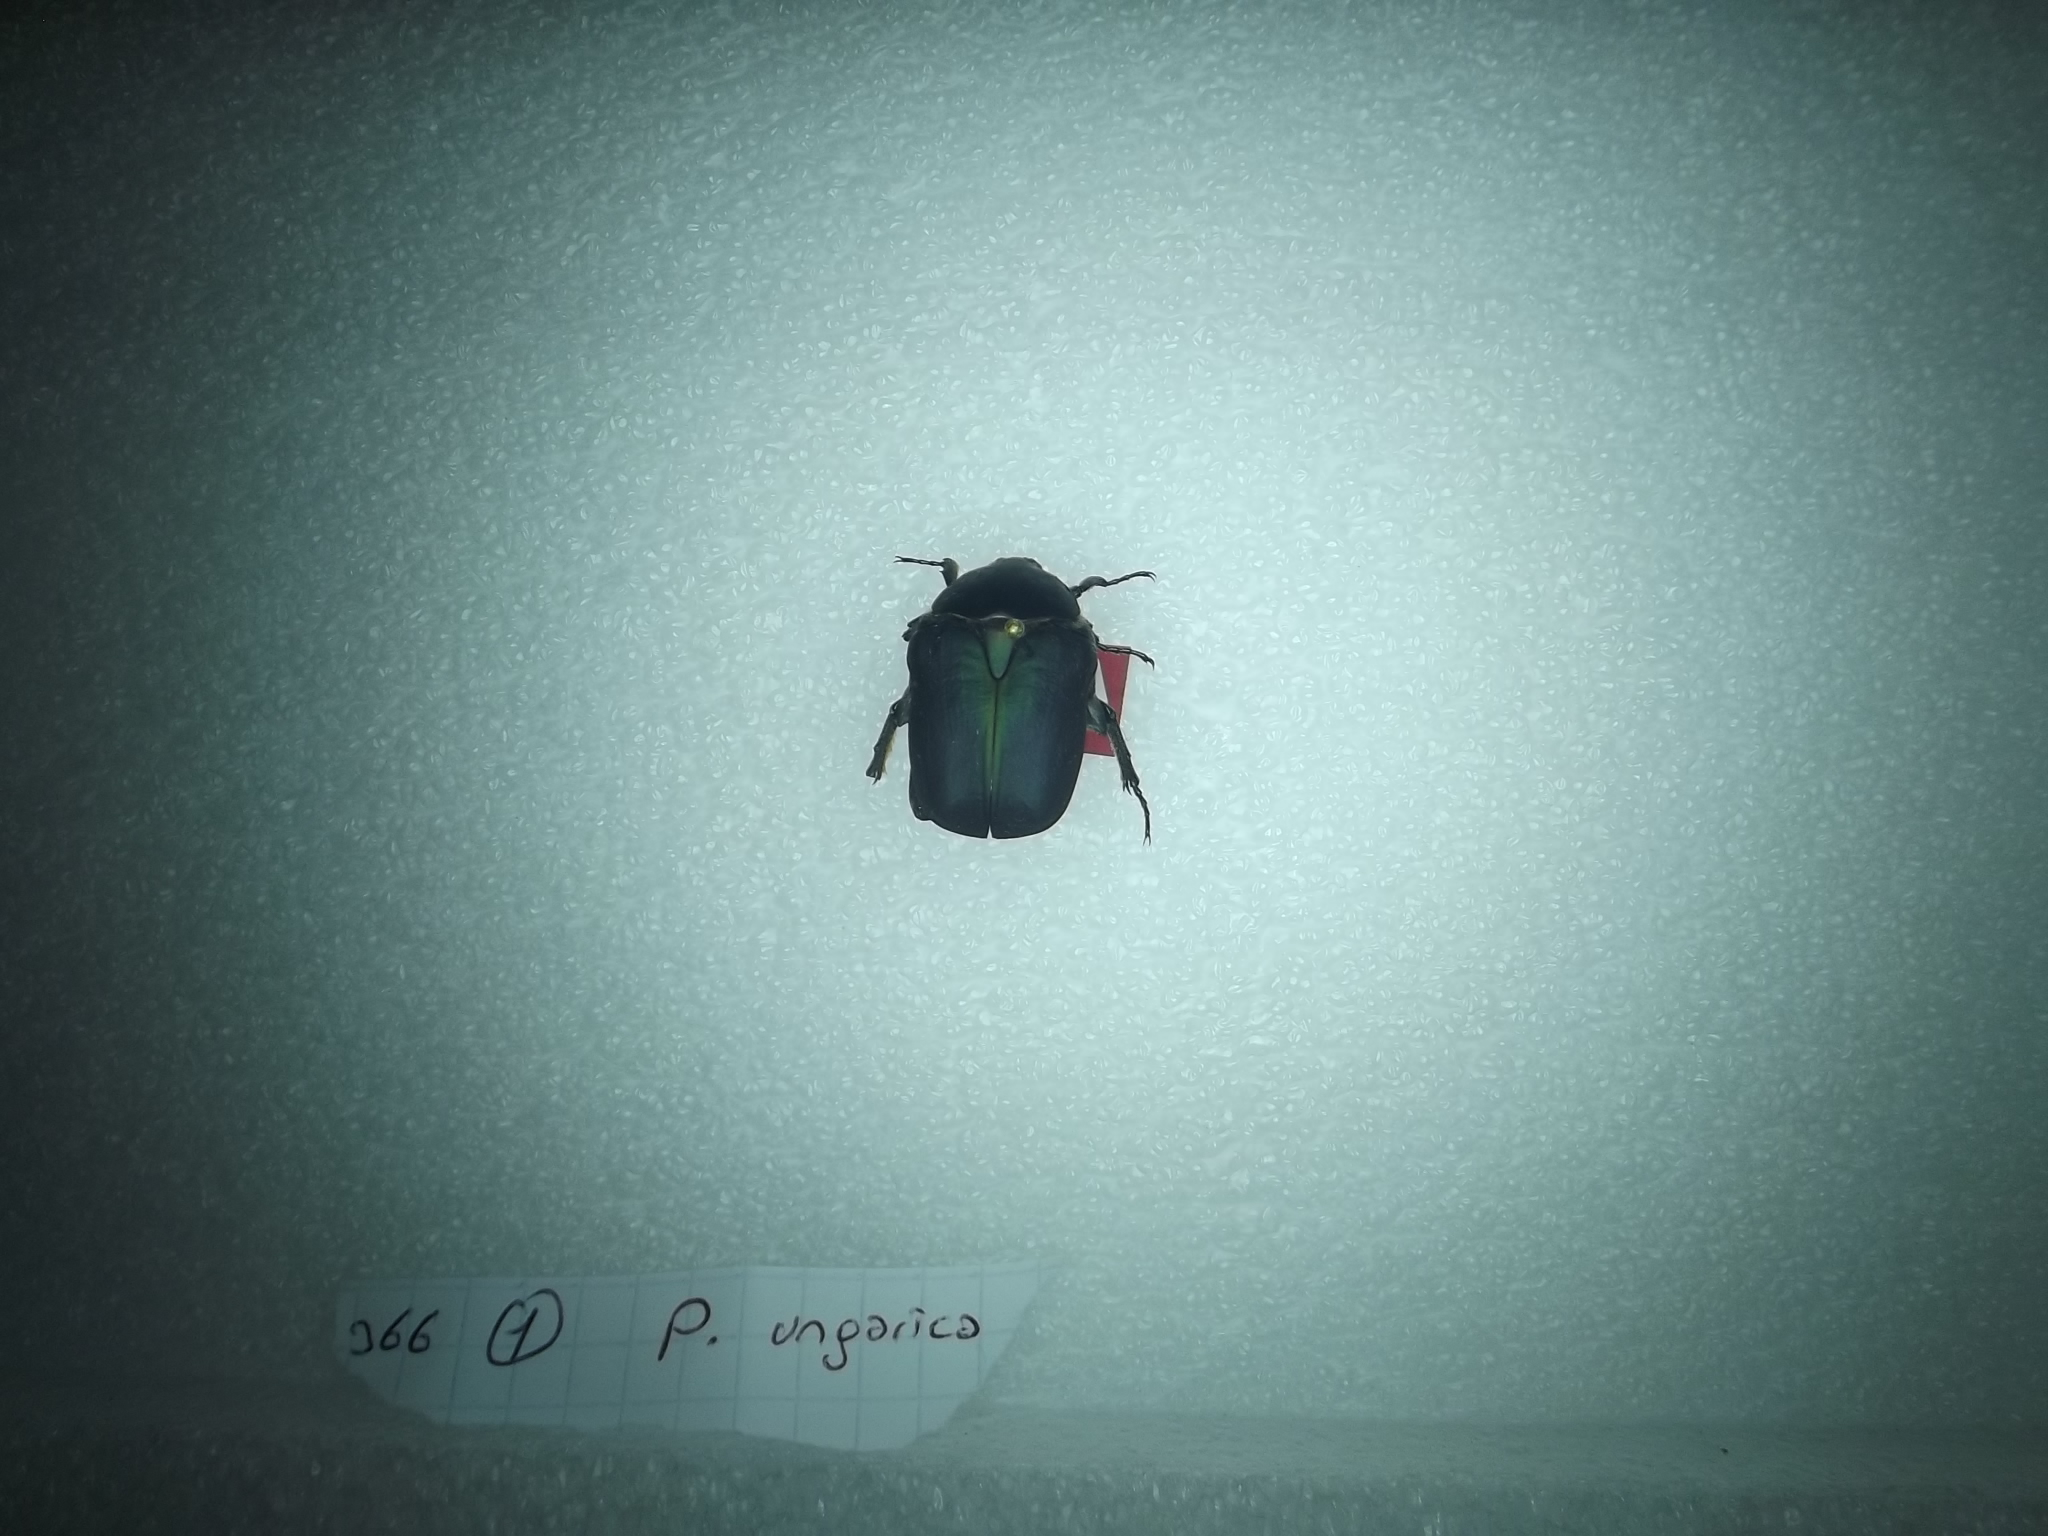Protaetia_ungarica_americana: (850, 526, 1195, 887)
